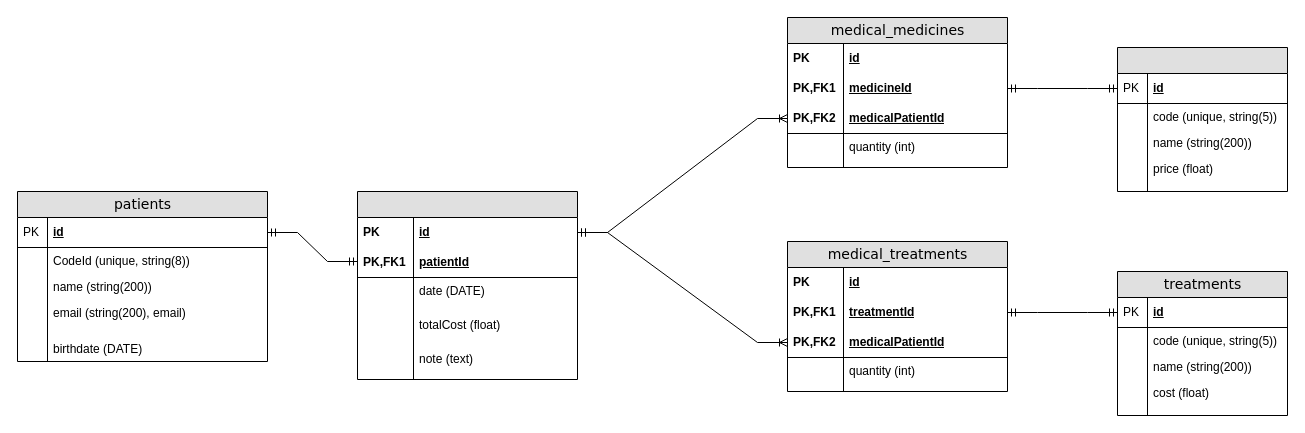
This 1305x433 diagram has some shape labels left out. Here are the shapes that lost their labels. From the top down, the box of each, then its label:
(1116, 46, 1288, 192): medicines
(356, 190, 578, 380): medical_patients
